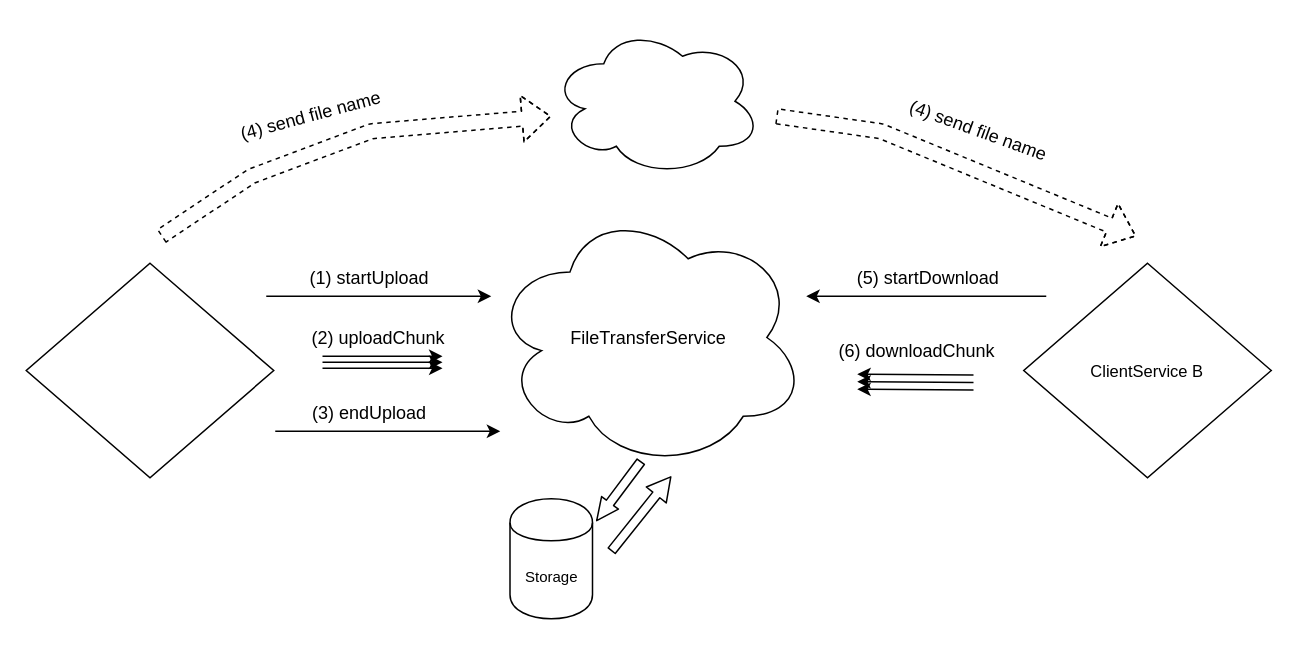
Image size: 1298x645. Some labels were removed from this diagram. Here are the shapes that lost their labels. From the top down, the centre of each, then its label:
At point 655,100: "ServerService".
At point 149,370: "ClientService A".
